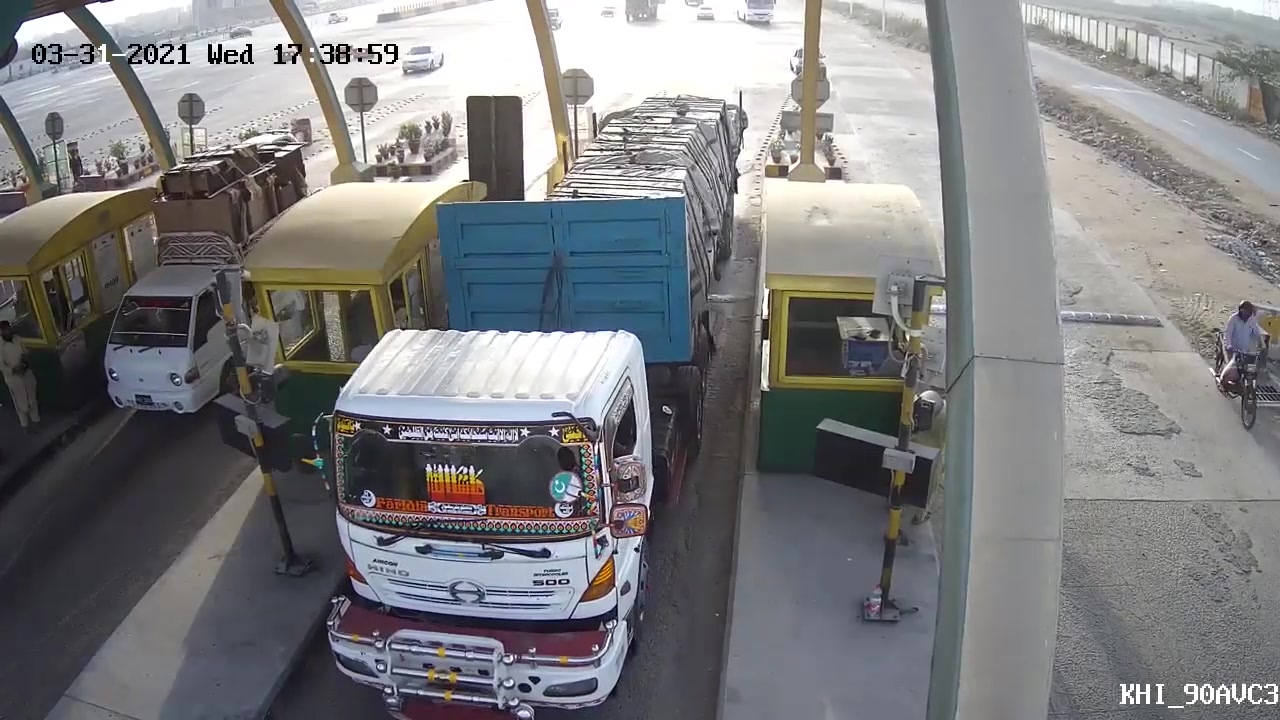F6: (317, 87, 761, 713)
